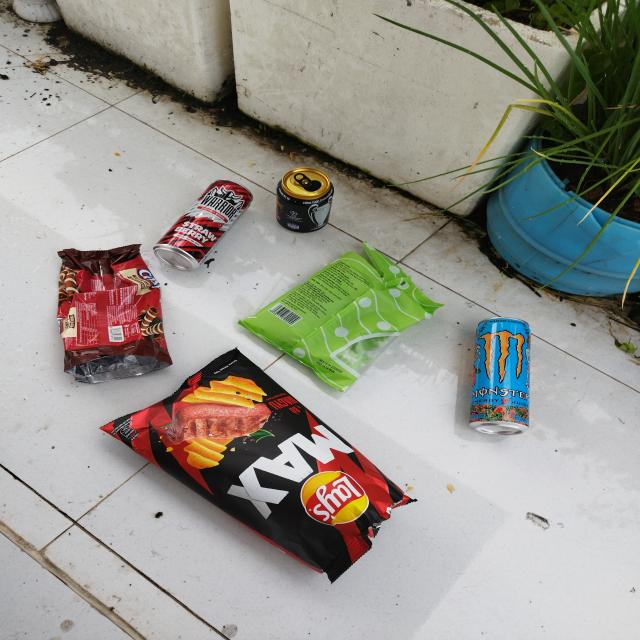can: (152, 178, 253, 272), (468, 317, 532, 436), (275, 167, 337, 233)
snack package: (98, 346, 420, 585), (236, 240, 445, 392), (56, 244, 172, 383)
